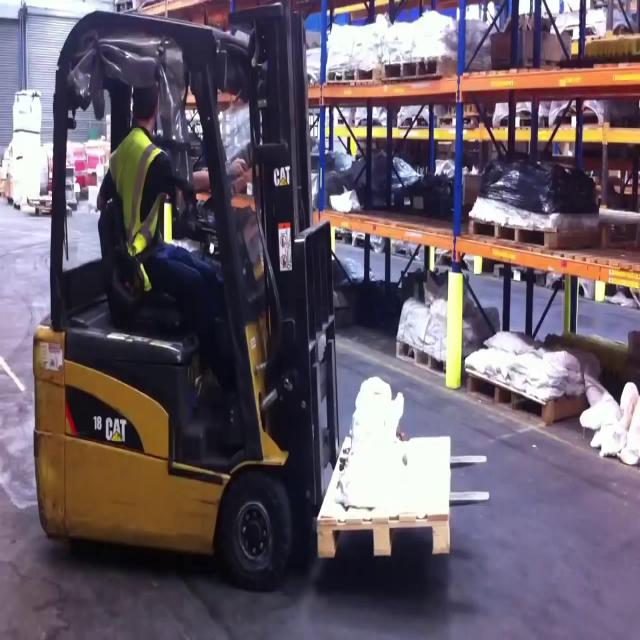Chariot elevateur: (28, 0, 350, 598)
